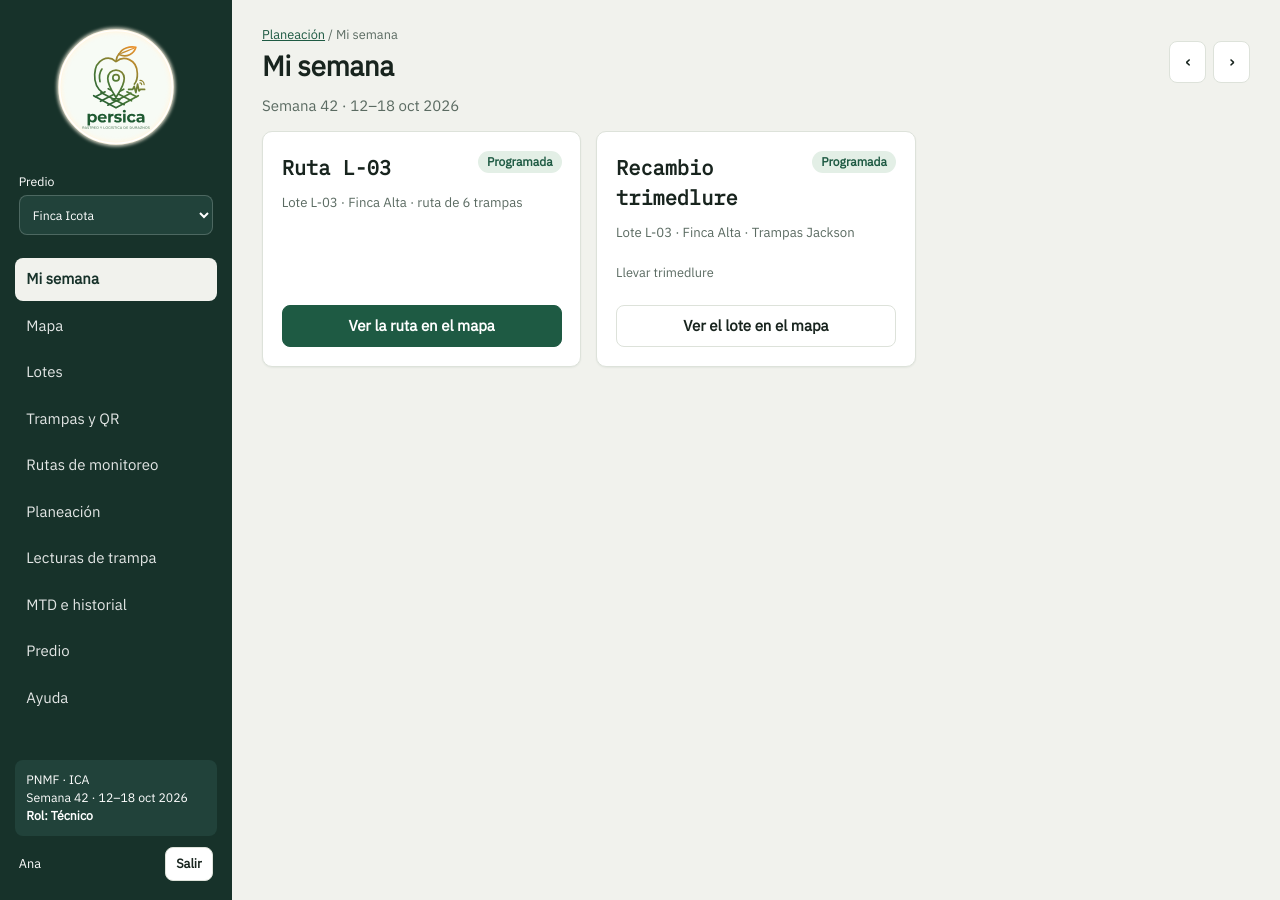
Test: VistaMiSemana › pasa a la semana siguiente y vuelve a la actual
The width and height of the screenshot is (1280, 900).
Check: the list named "Actividades de la semana" is shown, box [262,131,916,367]
Step 1. Click the button named "Semana siguiente" → point(1232, 62), box [1213,41,1250,83]
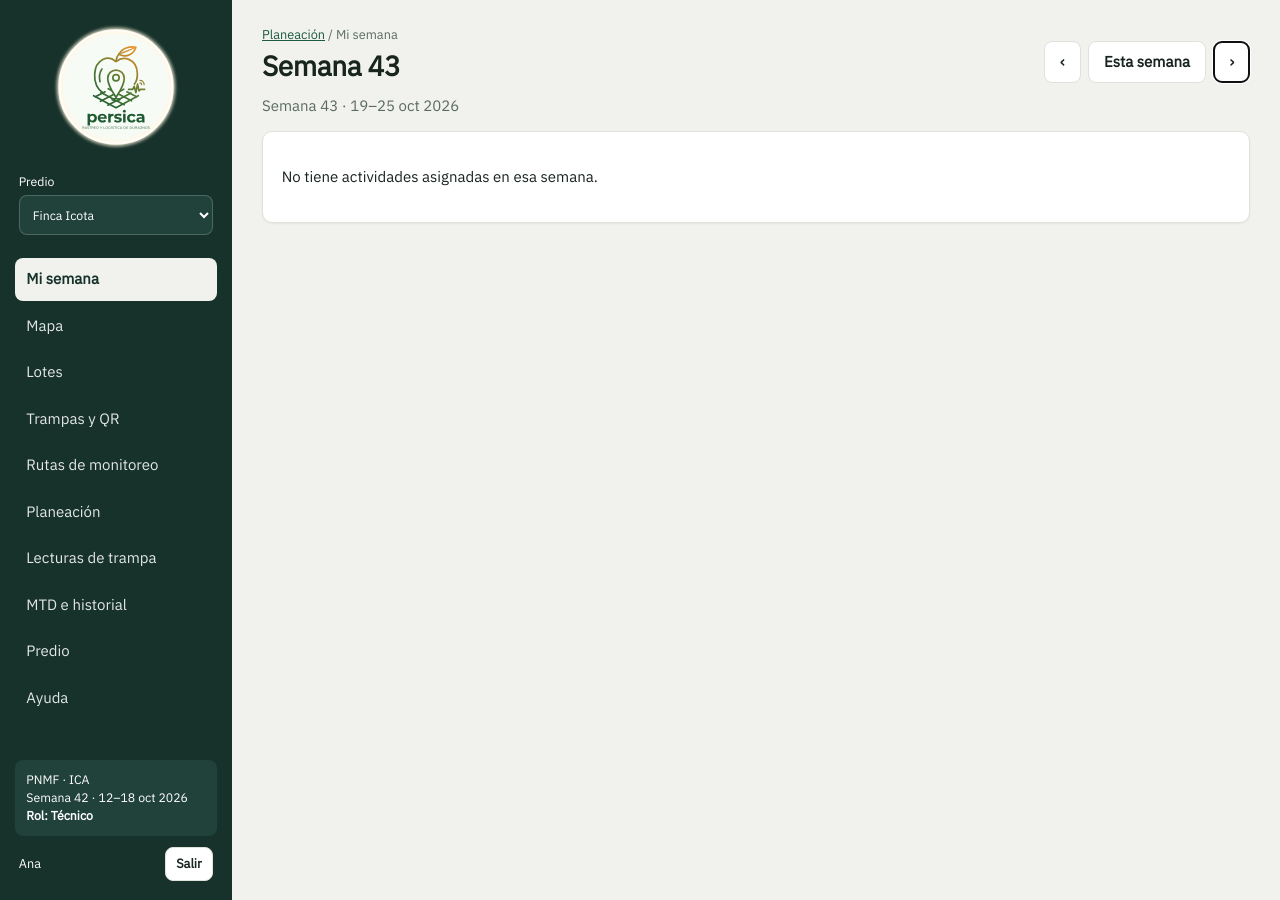
Check: the heading reads "Semana 43", box [262,48,400,84]
Check: the text "No tiene actividades asignadas en esa semana." is shown, box [282,167,598,186]
Step 2. Click the button "Esta semana" → point(1147, 62), box [1088,41,1206,83]
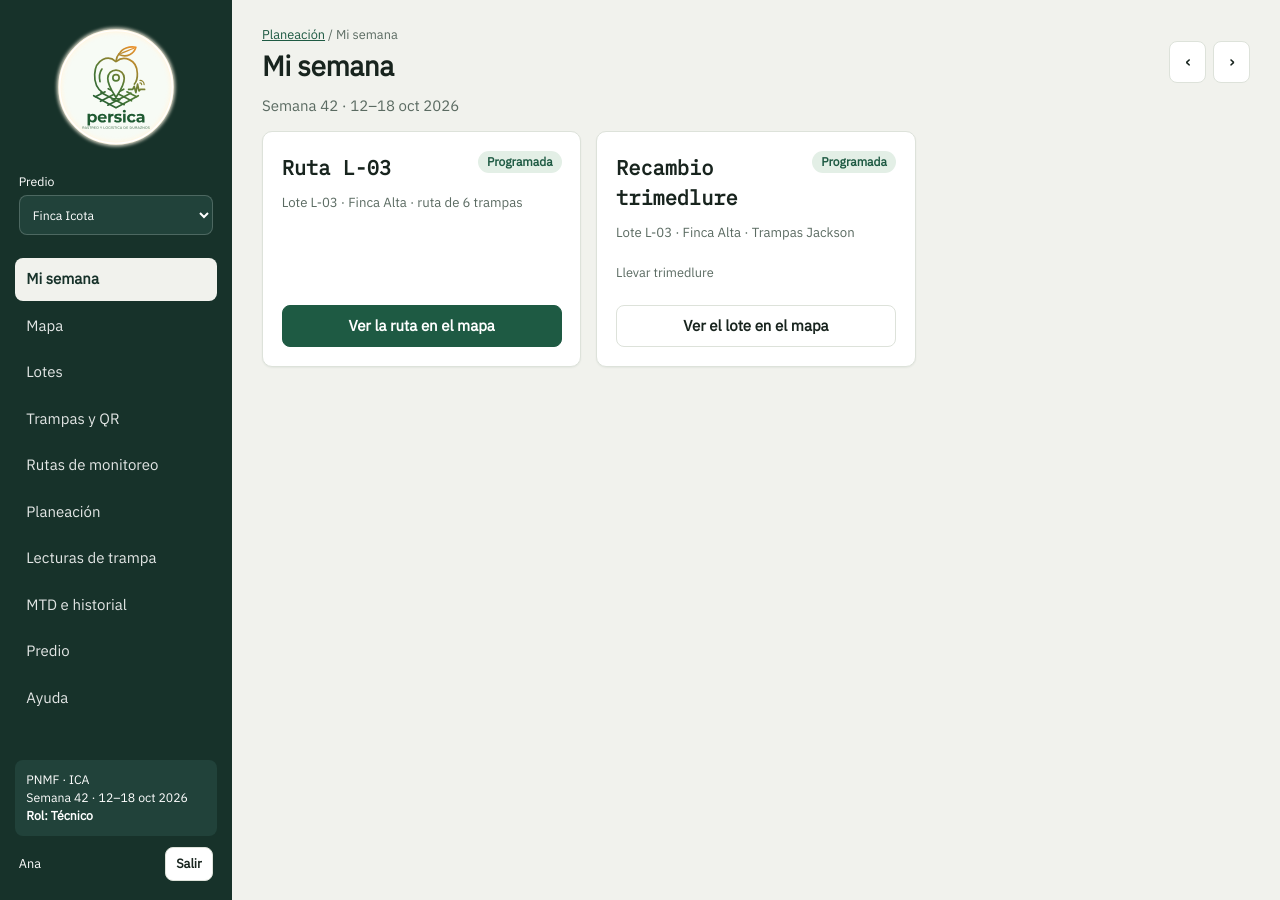
Check: the heading reads "Mi semana", box [262,48,394,84]
